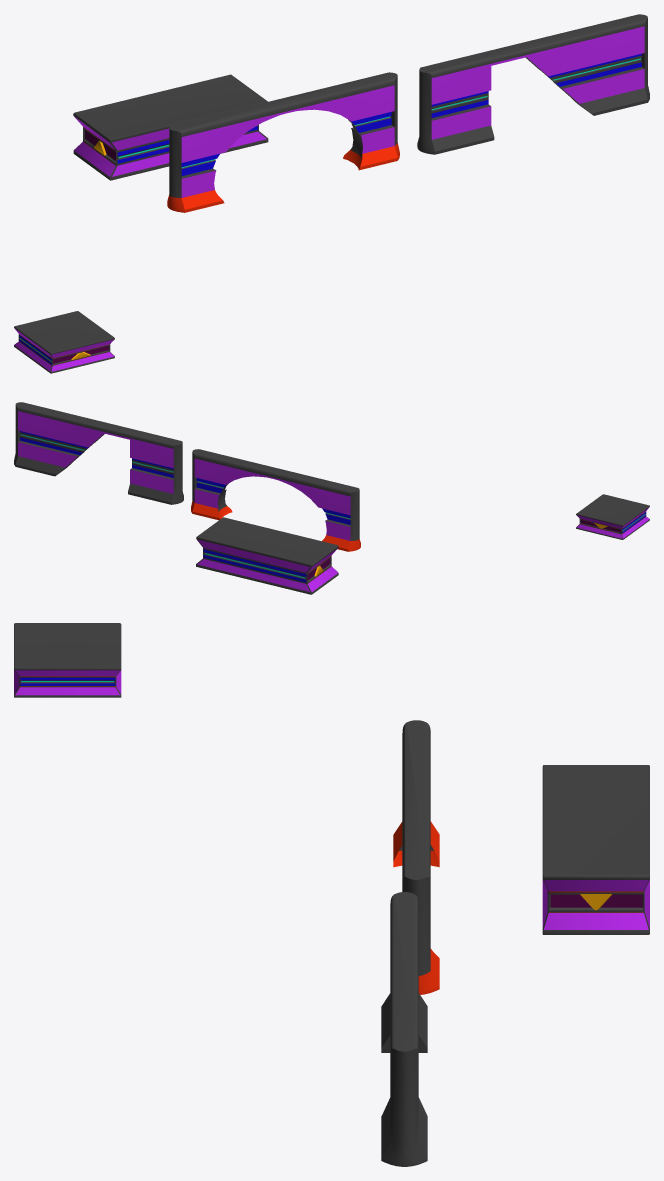
The model's file is Progeny Wall Pack 1.FBX.
The picture shows the model from 3 angles, top to bottom: view 1: azimuth 30°, elevation 25°; view 2: azimuth 150°, elevation 25°; view 3: azimuth 270°, elevation 25°; orthographic projection. The views are drawn at different scales.
Parts seen in each view (by area): view 1: Box006, Box009, Box004, Box003; view 2: Box006, Box004, Box009, Box003; view 3: Box004, Box006, Box003, Box009.
Boxes of the visible parts, box(x1,y1,x2,y2) form: Box006: box(417, 14, 649, 154); Box009: box(167, 72, 399, 212); Box004: box(73, 74, 268, 180); Box003: box(14, 311, 114, 373); Box006: box(14, 402, 183, 504); Box004: box(196, 517, 338, 594); Box009: box(191, 449, 360, 551); Box003: box(576, 494, 649, 539); Box004: box(542, 765, 649, 934); Box006: box(381, 892, 427, 1166); Box003: box(14, 623, 121, 697); Box009: box(393, 720, 439, 994).
Size of the model in its own units: 37.81 by 3.97 by 19.69.
